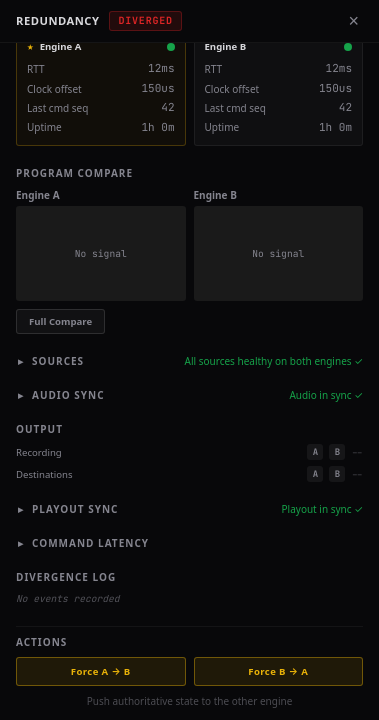
RedundancyPanel › cancel hides reconcile confirmation
The image size is (379, 720).
(page scrolled)
Click the button with class "reconcile-btn" showing "Force A → B" at (101, 671), box x1=16 y1=657 x2=186 y2=686
(page scrolled)
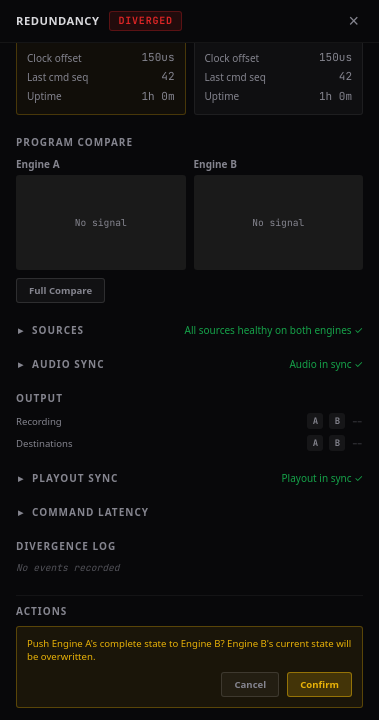
expect the element with class "reconcile-confirm" is shown: met, box x1=16 y1=626 x2=363 y2=708
expect the button with class "confirm-cancel-btn" is shown: met
Click the button with class "confirm-cancel-btn" at (250, 684), box x1=222 y1=672 x2=279 y2=697
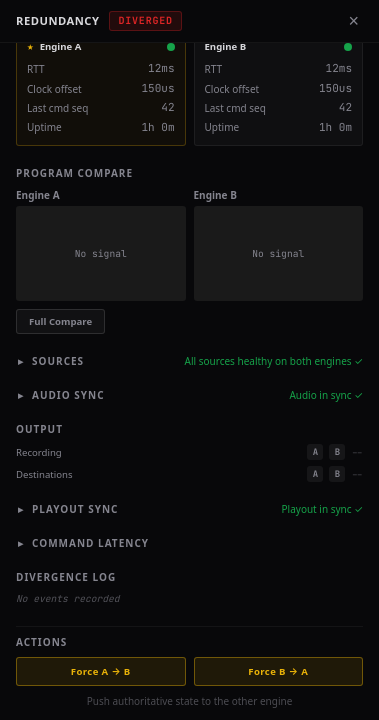
expect the element with class "reconcile-confirm" is gone: met
expect the number of buttons with class "reconcile-btn" is 2: met, box x1=16 y1=657 x2=186 y2=686; x1=194 y1=657 x2=363 y2=686
